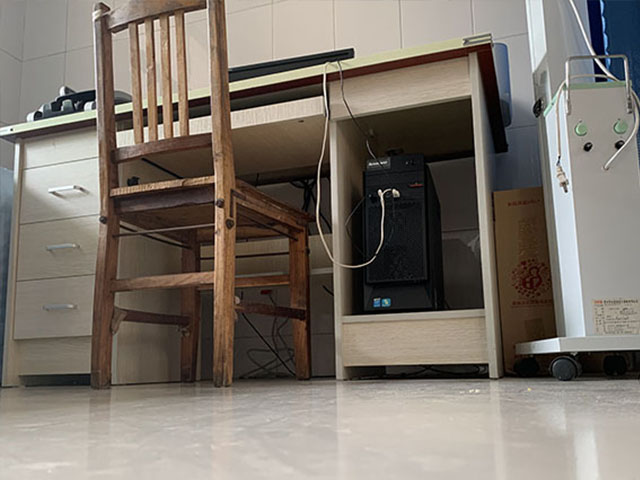stool: (88, 1, 313, 391)
table: (1, 40, 516, 390)
wire: (237, 296, 291, 374)
